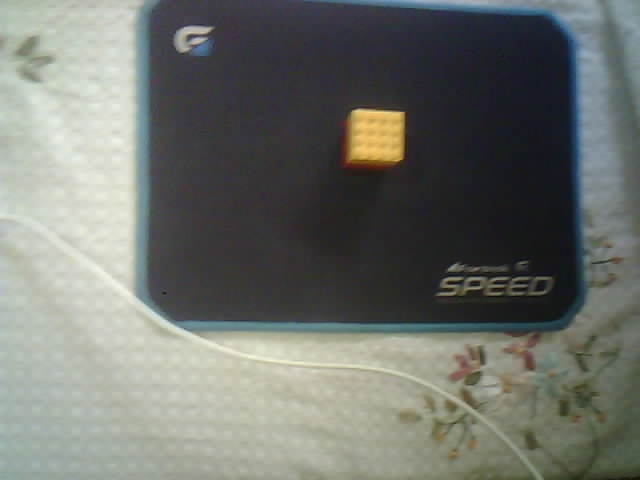lego: (338, 108, 407, 173)
